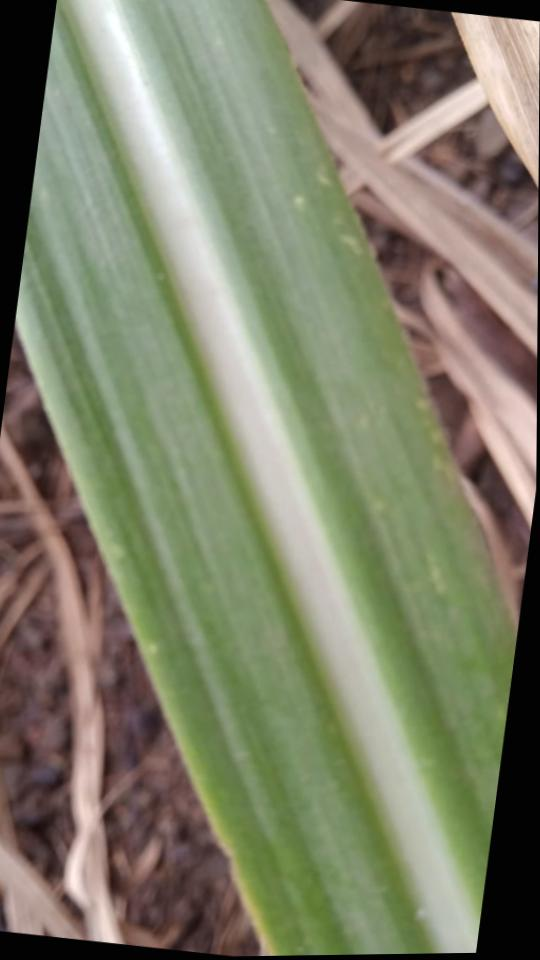Healthy: (15, 0, 516, 956)
